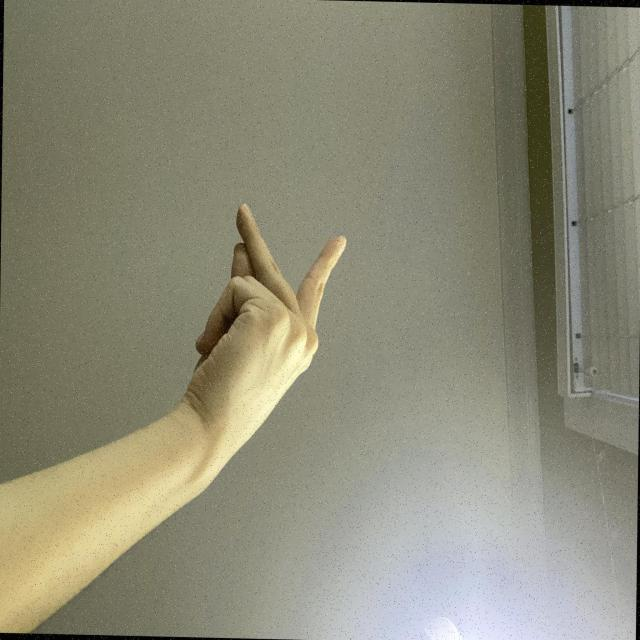P: (298, 384, 526, 615)
